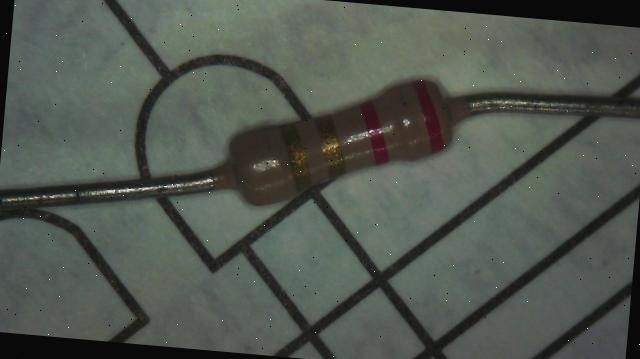gold: (313, 116, 352, 181), (278, 124, 314, 191)
red: (408, 80, 448, 154), (357, 101, 394, 165)
resistor: (200, 55, 482, 219)
